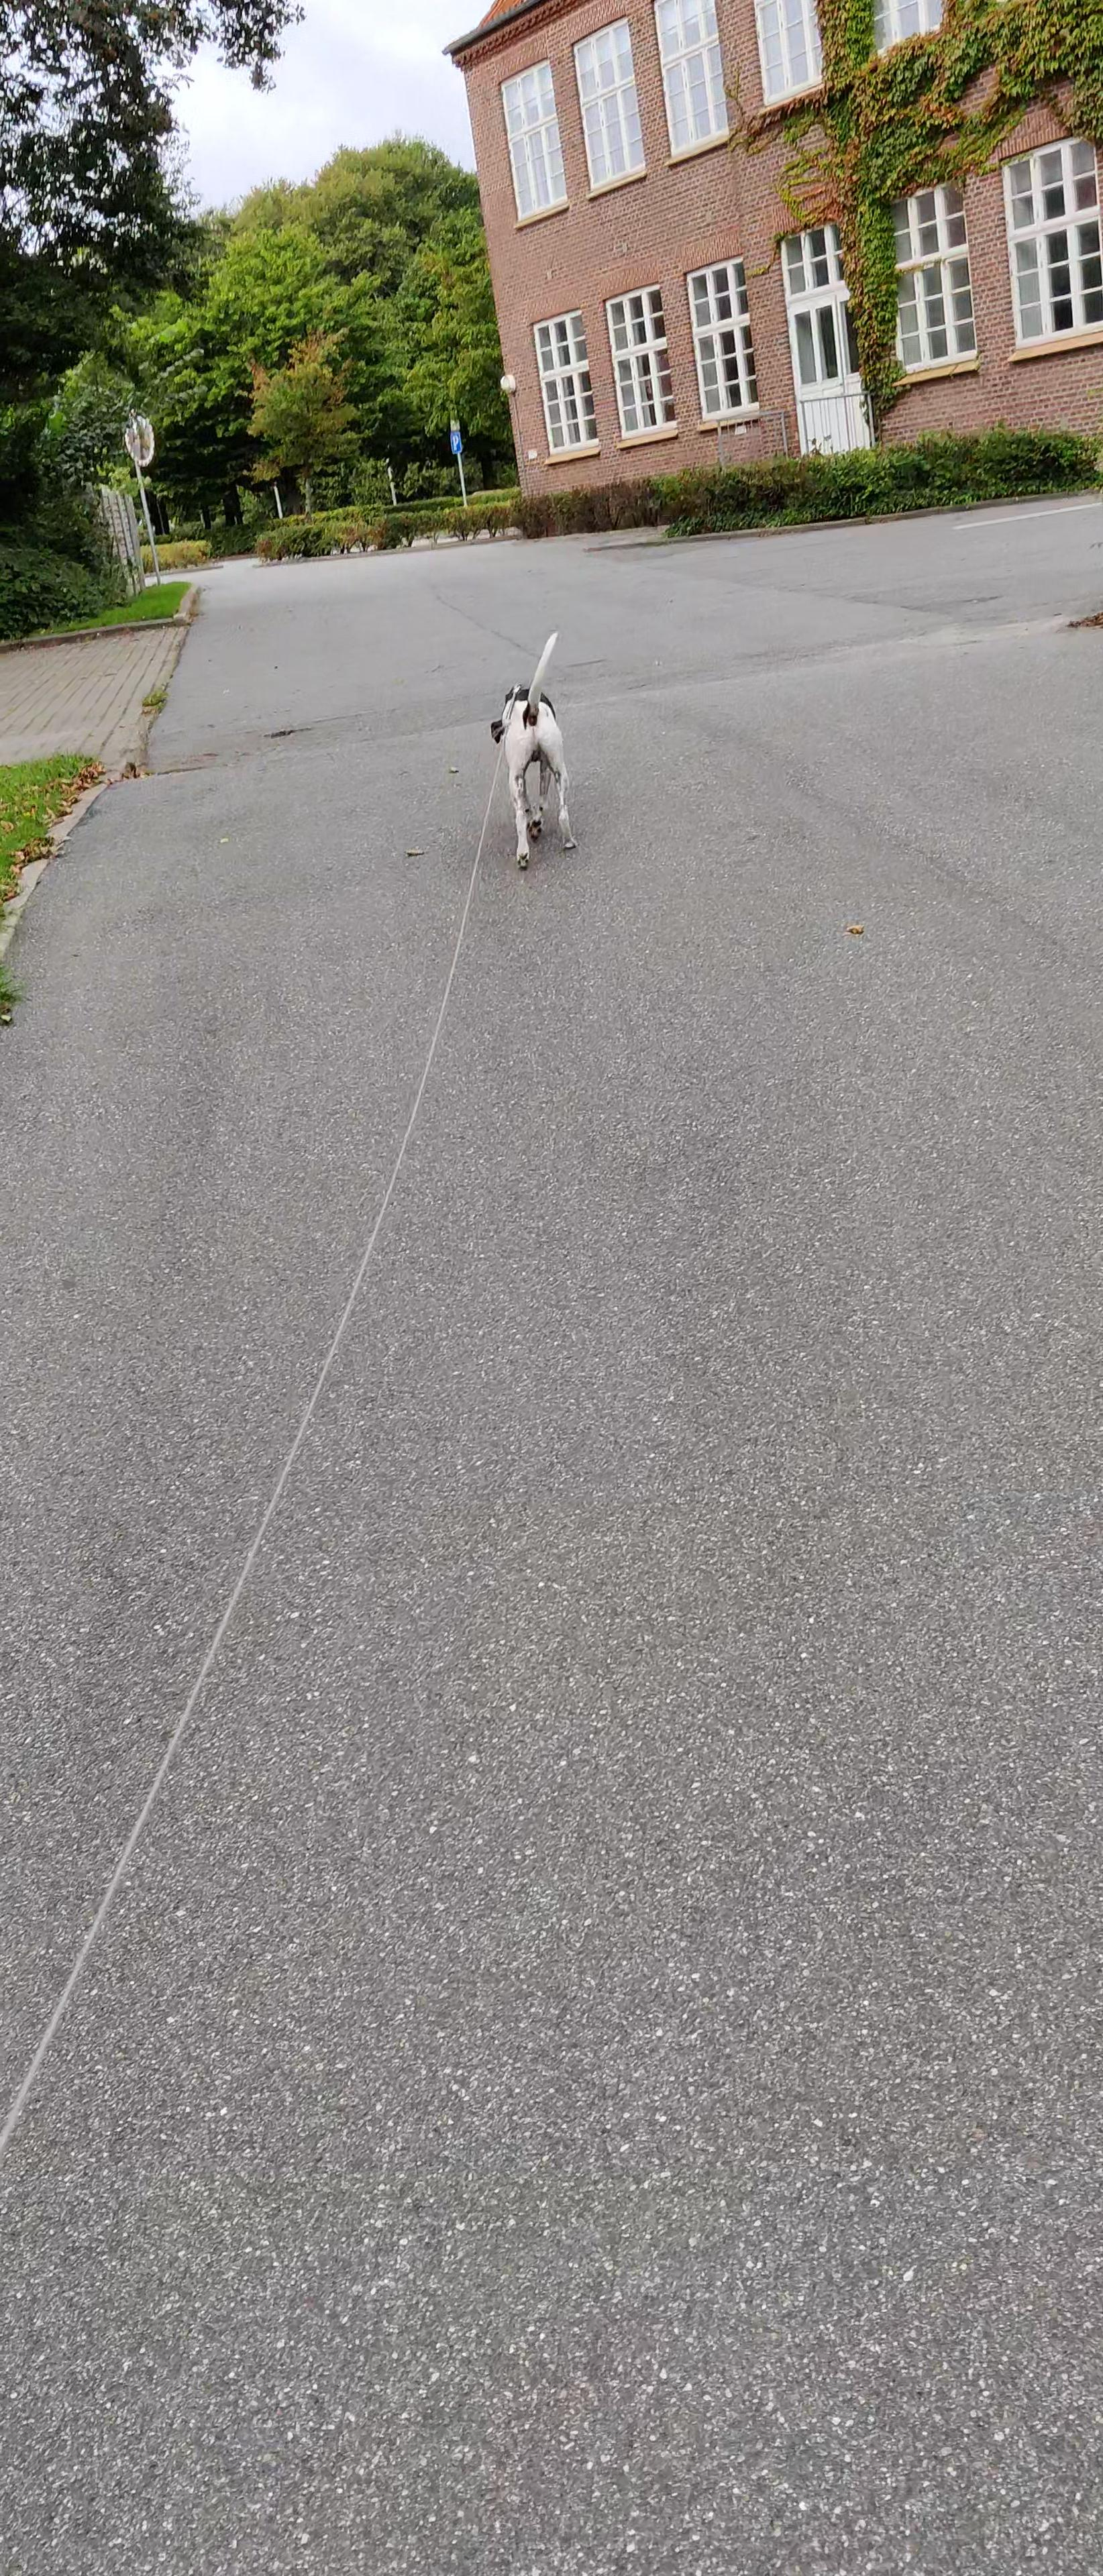Dog: (485, 626, 580, 874)
